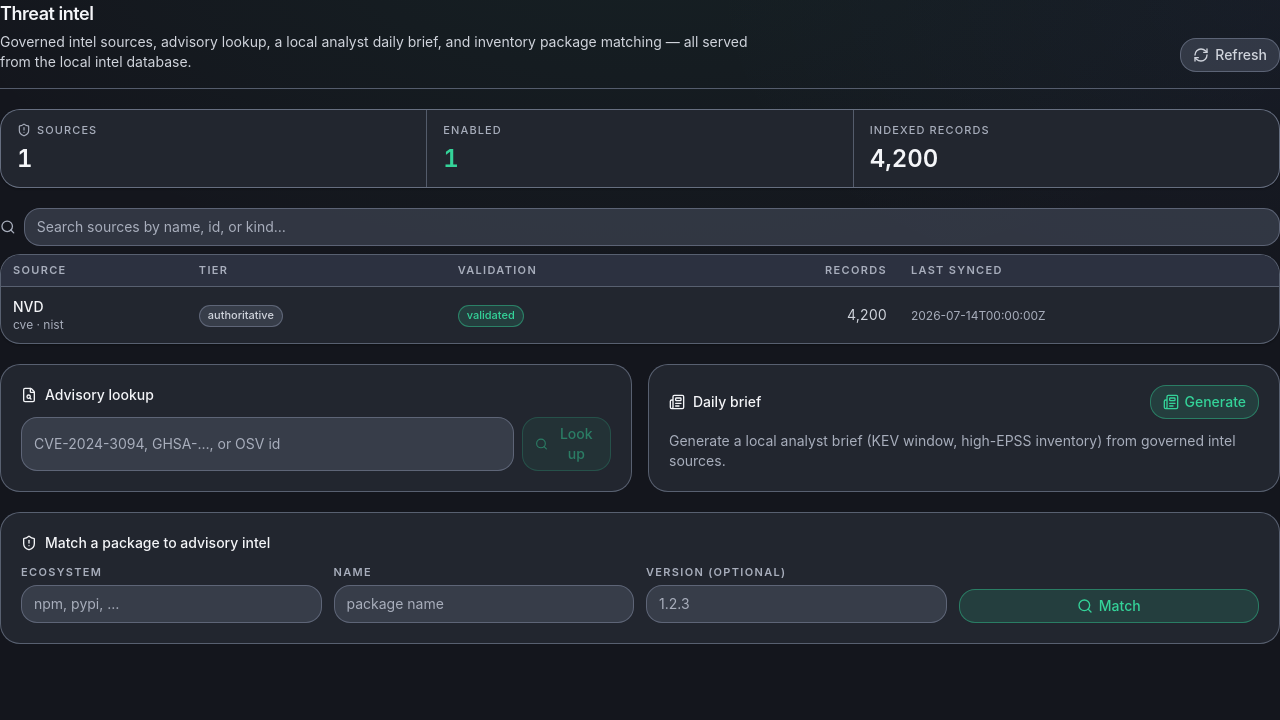
Test: IntelPanel › generates a daily brief
The width and height of the screenshot is (1280, 720).
Expected: the text "NVD" is shown, [13,298,44,315]
Click the button with test id "intel-brief-submit" at (1204, 402), box [1150,385,1259,419]
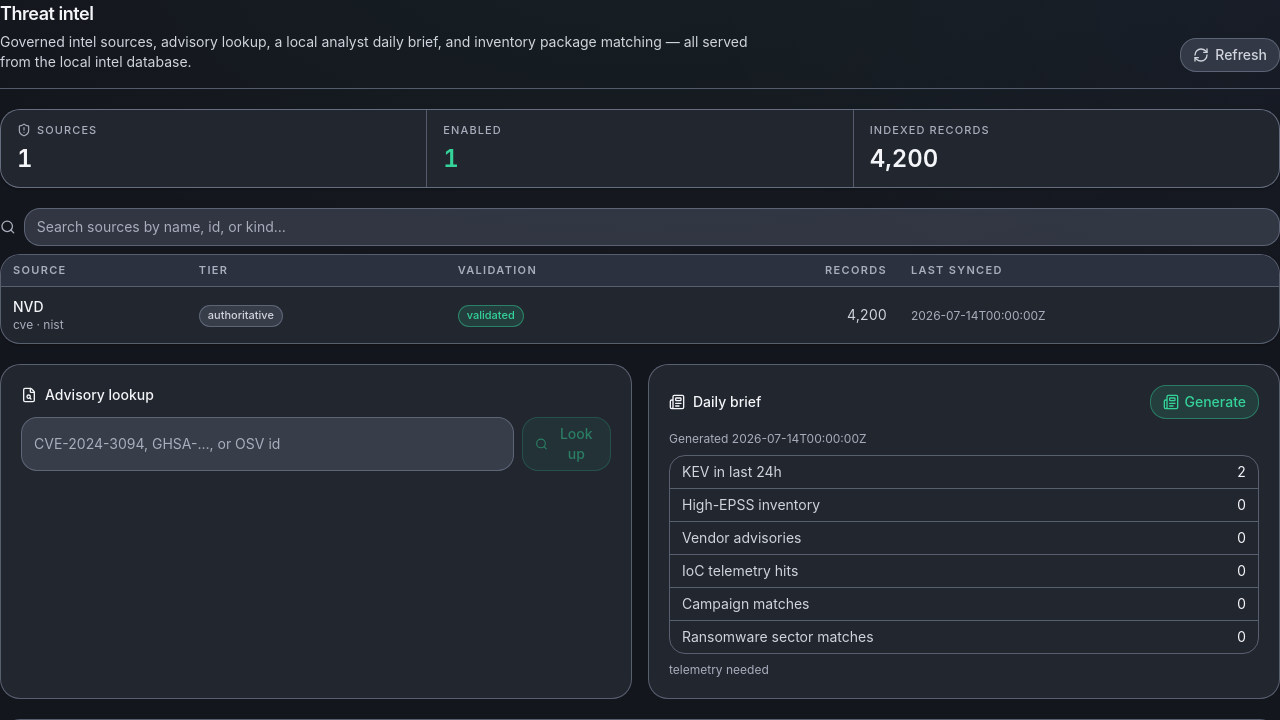
Expected: the element with test id "intel-brief-result" shows "KEV in last 24h", [682,463,782,480]
